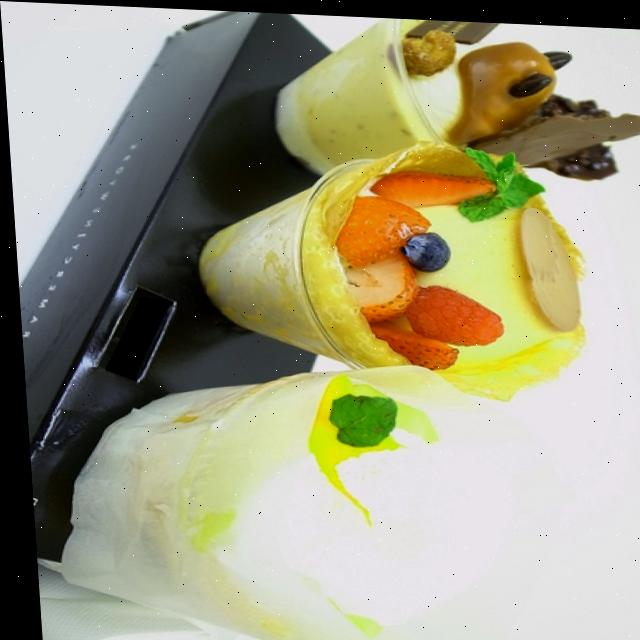蛋糕甜品: (22, 1, 640, 640)
